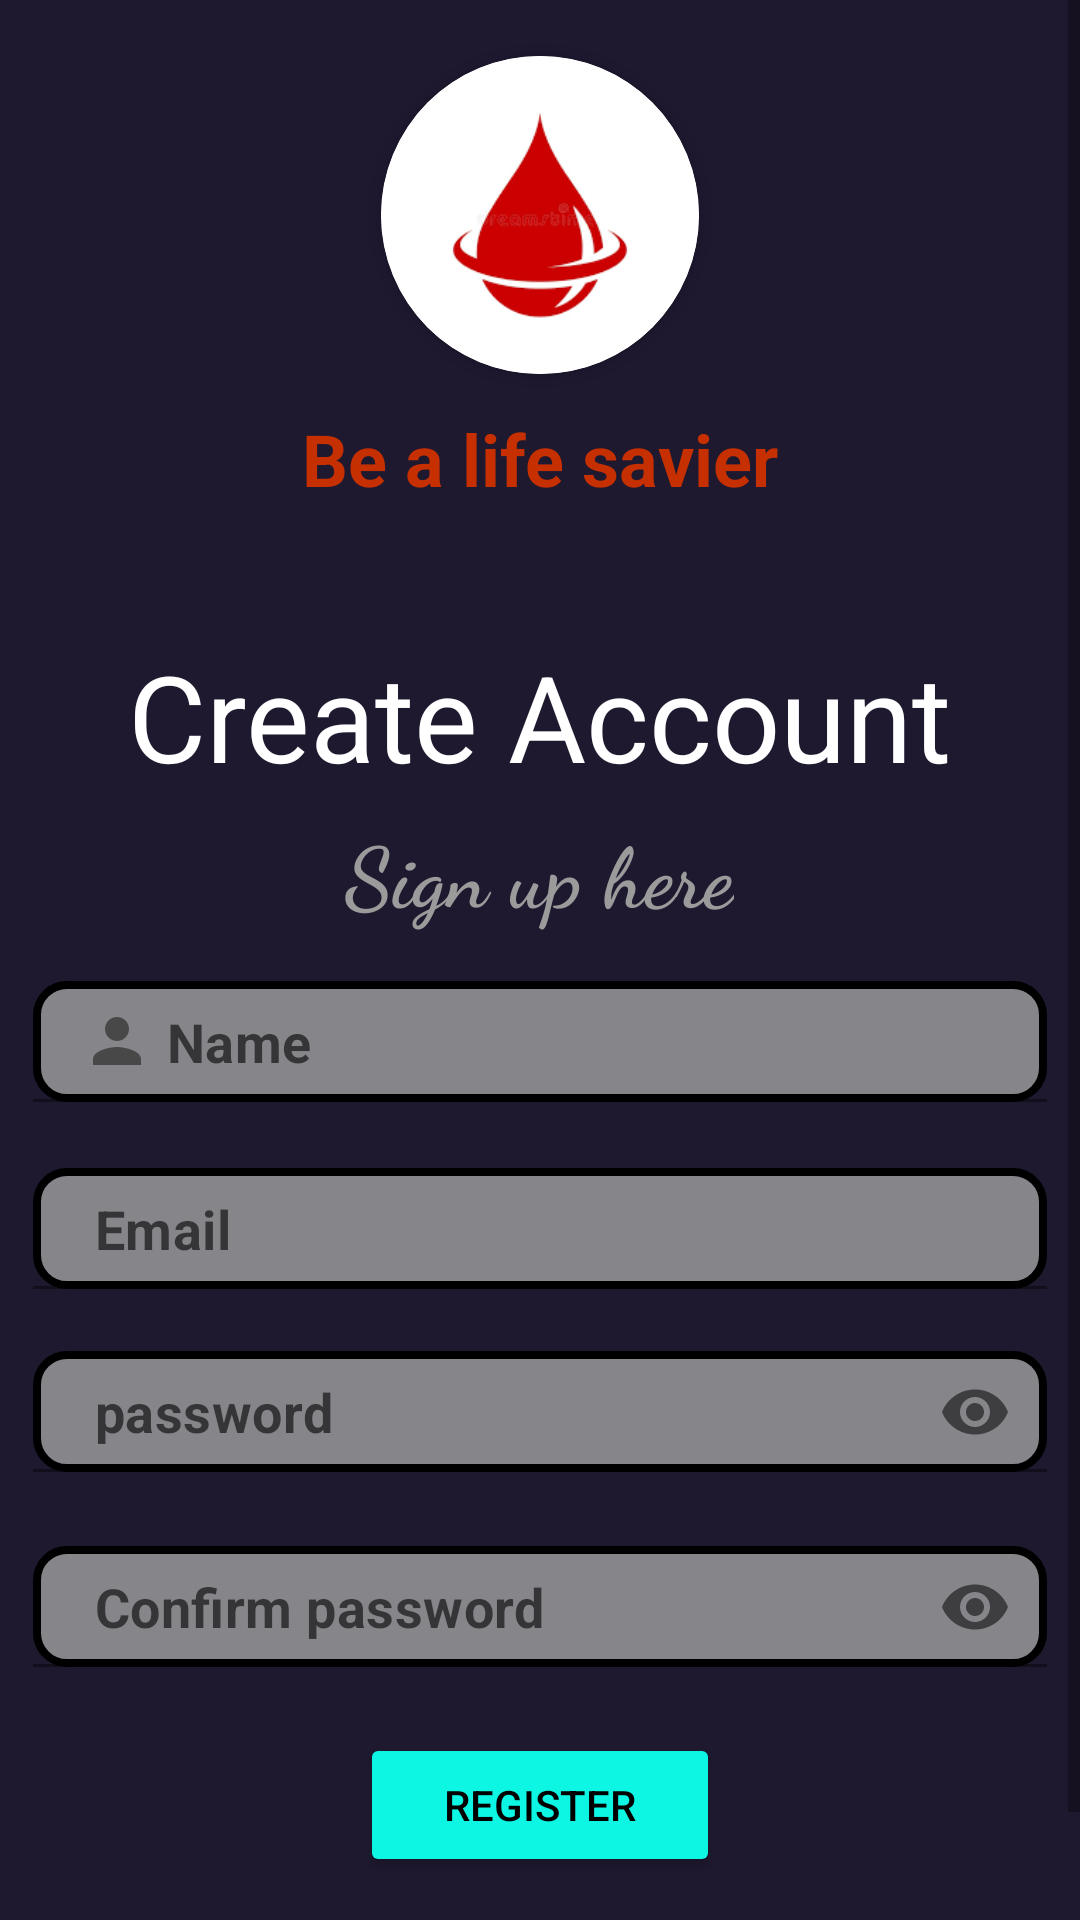

Named icons in this screenshot (1080w x 1920h) and their centers, [x,y]:
bloodnewnew: [540,215]
